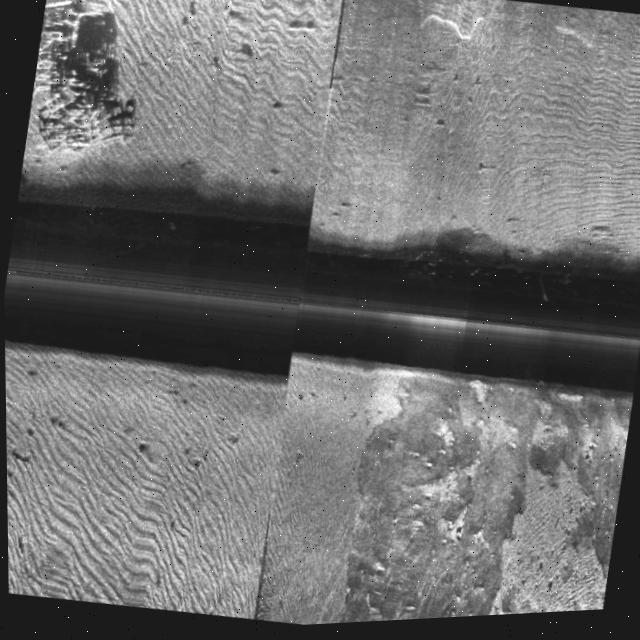artificial reef: (25, 31, 139, 154)
